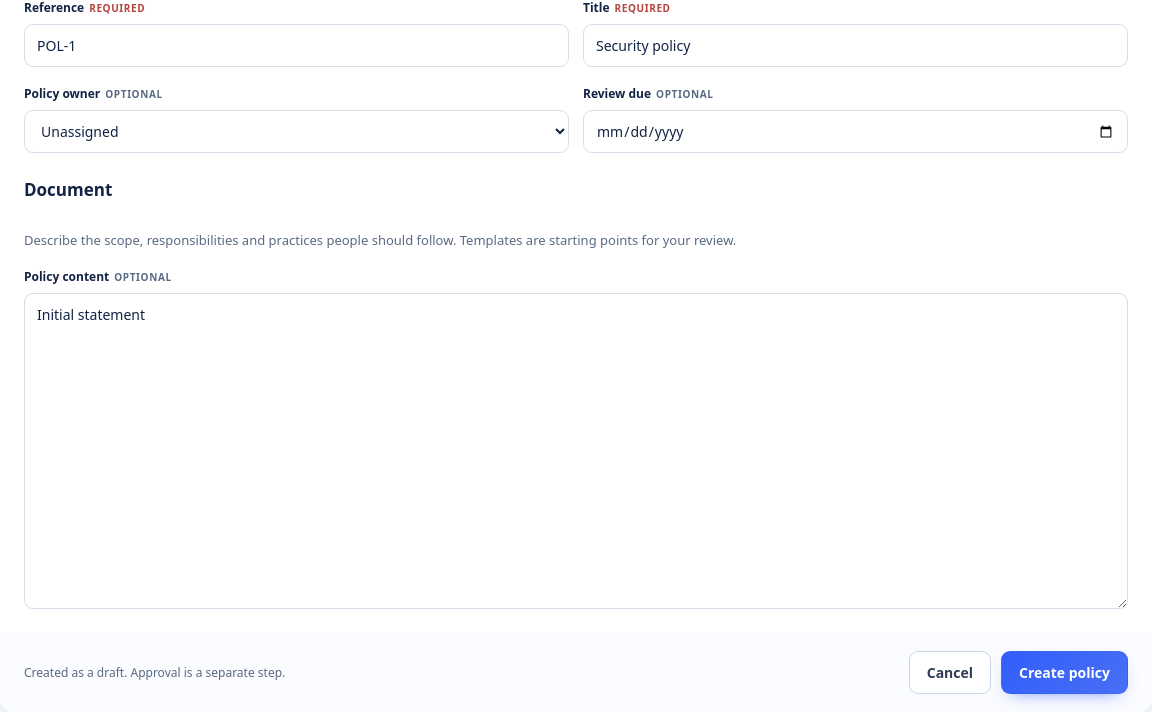
Test: keeps the author's draft after an interrupted creation and offers a route back
(page scrolled)
Type " Added responsibility" into the text box labelled "Policy content".
click(576, 451); type(" Added responsibility")  # box x1=24 y1=293 x2=1128 y2=609
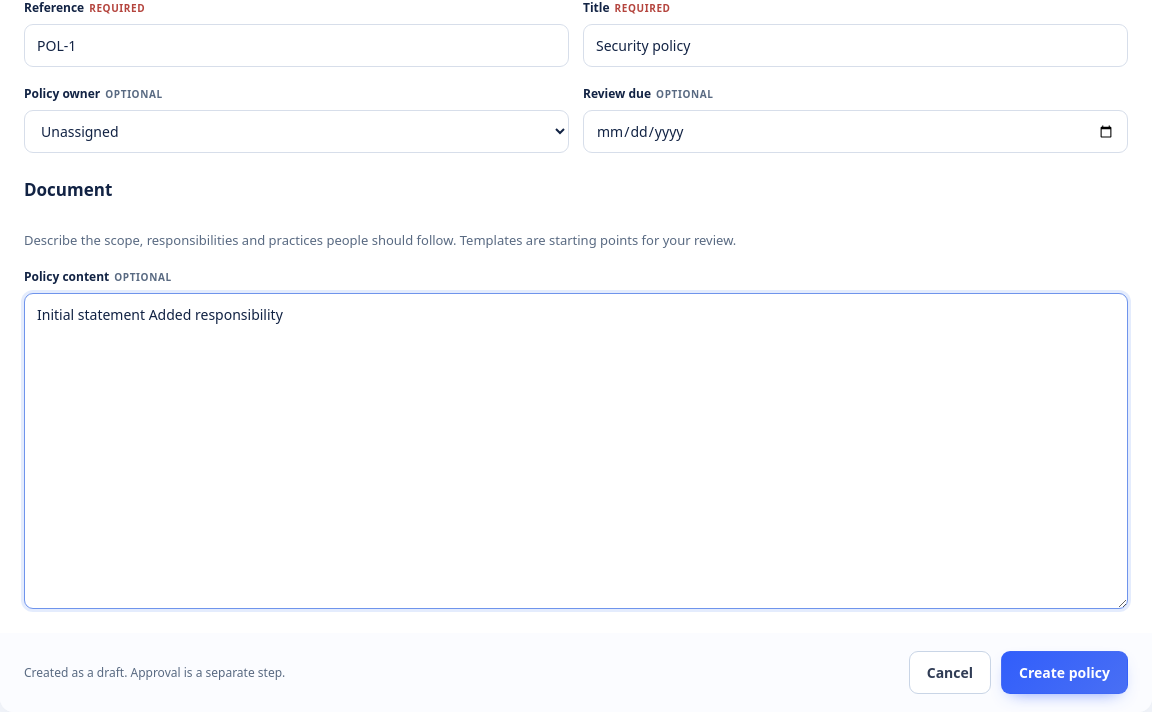
Click the button "Create policy".
click(1064, 672)  # box x1=1001 y1=651 x2=1128 y2=694
(page scrolled)
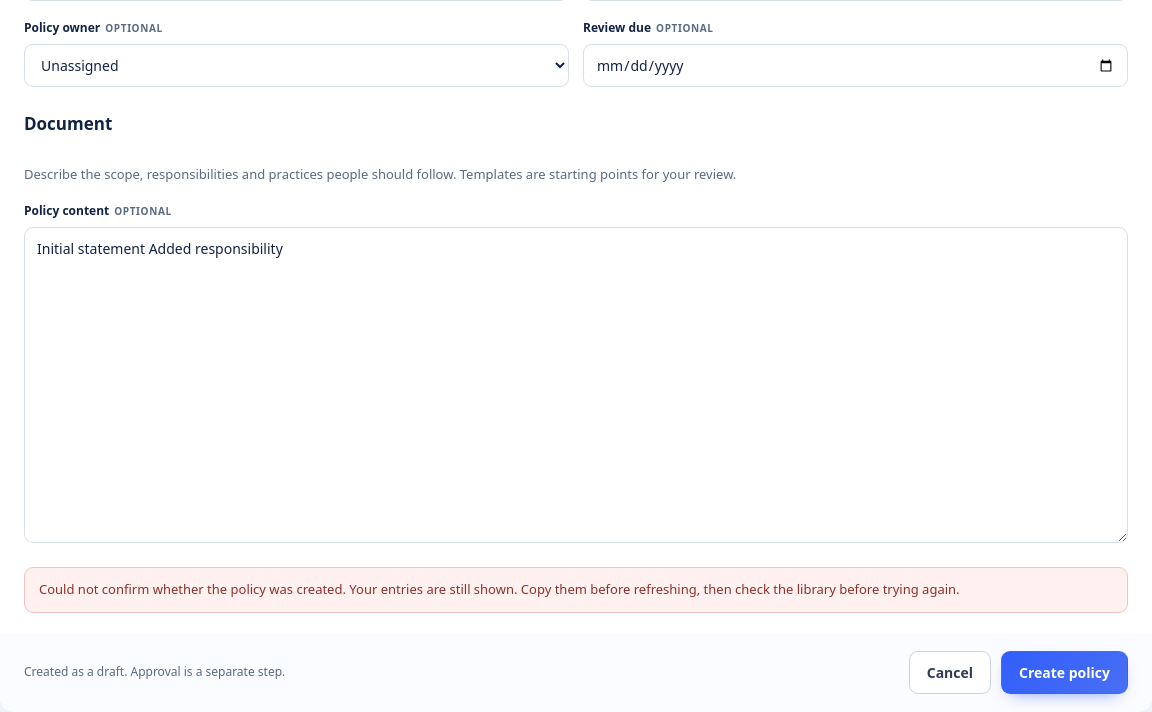
Now the text box labelled "Policy content" holds "Initial statement Added responsibility", box x1=24 y1=227 x2=1128 y2=543
Now the message shows "Could not confirm", box x1=39 y1=580 x2=960 y2=598
